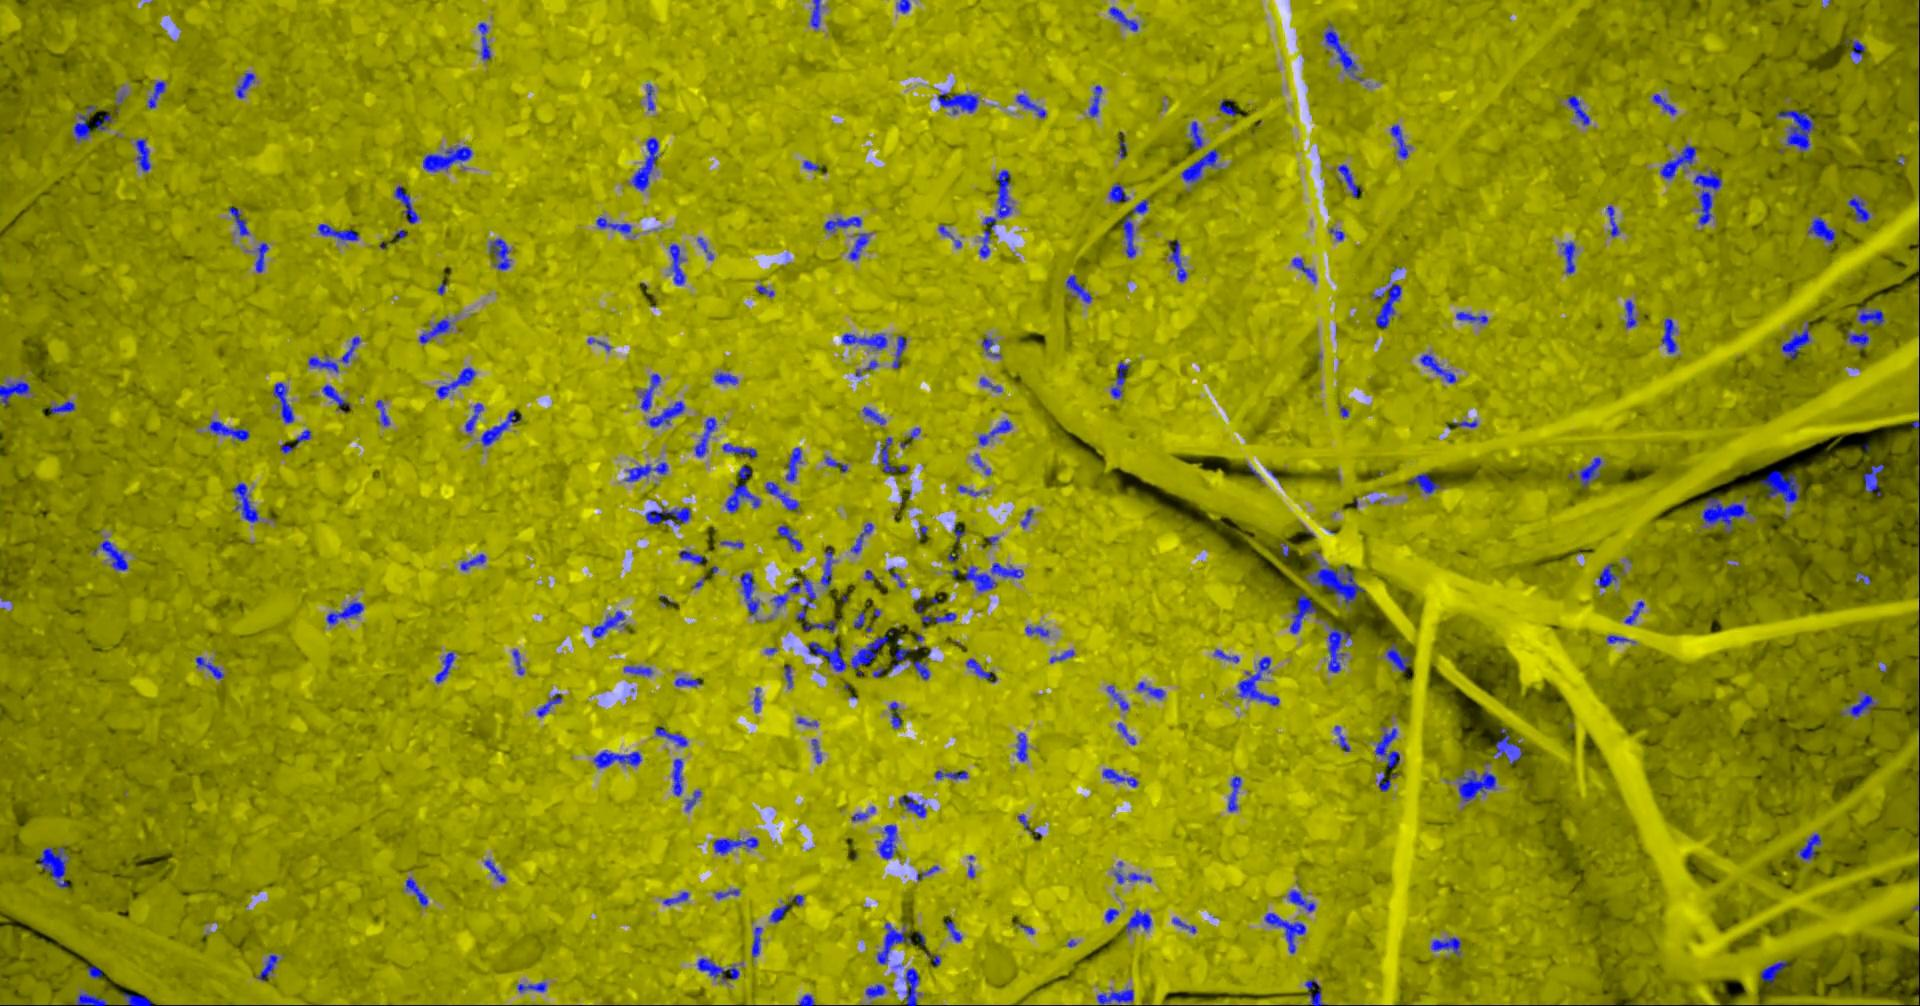ant: (789, 577, 836, 631), (1305, 561, 1363, 605), (1323, 23, 1363, 80), (1237, 655, 1279, 705), (964, 561, 1023, 591), (1263, 912, 1305, 953), (724, 465, 759, 512), (1702, 497, 1749, 532), (1775, 109, 1815, 151), (1693, 169, 1721, 224), (1121, 199, 1148, 257), (851, 635, 888, 674), (480, 409, 521, 445), (876, 922, 910, 964), (631, 137, 658, 191), (1760, 469, 1799, 502), (1371, 283, 1401, 328), (422, 146, 472, 171), (38, 846, 69, 887), (1660, 145, 1695, 179), (1181, 149, 1218, 182), (1457, 770, 1495, 801), (436, 367, 475, 398), (1418, 353, 1455, 384), (879, 436, 907, 475), (231, 481, 258, 522), (808, 641, 844, 671), (696, 956, 738, 982), (1289, 593, 1316, 633), (93, 540, 127, 570), (1493, 727, 1521, 763), (1374, 728, 1399, 767), (1327, 626, 1349, 672), (648, 400, 684, 427), (392, 185, 418, 224), (764, 481, 797, 511), (1782, 325, 1810, 359), (937, 91, 978, 114), (590, 610, 625, 636), (592, 749, 641, 767), (272, 382, 293, 423), (695, 417, 716, 457), (623, 461, 667, 481), (978, 419, 1012, 445), (645, 506, 690, 525), (326, 601, 363, 624), (740, 572, 759, 615), (841, 333, 886, 351), (1167, 239, 1186, 281), (1337, 164, 1361, 197), (418, 319, 451, 343), (639, 373, 660, 410), (1114, 861, 1150, 883), (323, 384, 350, 412), (0, 380, 29, 406), (208, 420, 249, 439), (72, 105, 94, 141), (279, 429, 311, 453), (712, 837, 758, 854), (1065, 274, 1091, 304), (996, 170, 1011, 218), (965, 658, 996, 682), (1807, 217, 1835, 243), (1385, 643, 1410, 672), (1110, 361, 1129, 398), (1015, 94, 1045, 117), (1407, 473, 1441, 493), (850, 522, 872, 553), (489, 238, 510, 269), (1102, 768, 1138, 788), (1109, 6, 1137, 30), (1848, 692, 1876, 716), (1759, 960, 1787, 984), (317, 224, 358, 240), (1578, 457, 1601, 486), (877, 824, 897, 859), (1863, 464, 1883, 495), (777, 525, 803, 550), (434, 652, 455, 683), (196, 655, 223, 678), (1567, 95, 1589, 124), (669, 244, 684, 285), (1291, 257, 1316, 282), (1797, 833, 1821, 859), (1096, 988, 1133, 1005), (655, 727, 687, 746), (898, 795, 926, 817), (405, 876, 427, 904), (463, 401, 483, 432), (536, 694, 561, 716), (1125, 909, 1150, 932), (904, 967, 919, 1005), (848, 232, 869, 260), (1288, 890, 1316, 911), (785, 447, 801, 481), (824, 216, 861, 231), (229, 206, 248, 235), (1106, 685, 1128, 710), (1390, 124, 1407, 158), (596, 217, 631, 232), (1661, 318, 1676, 353), (340, 337, 361, 363), (257, 954, 277, 981), (1857, 306, 1884, 325), (1848, 197, 1869, 221), (1623, 600, 1644, 624), (309, 354, 338, 372), (1304, 979, 1324, 1005), (135, 138, 150, 171), (1430, 937, 1460, 954), (820, 546, 833, 586), (721, 443, 757, 457), (1137, 681, 1164, 699), (1652, 93, 1675, 114), (484, 859, 505, 882), (235, 72, 254, 98), (477, 22, 490, 58), (890, 647, 910, 669), (891, 335, 905, 368), (119, 991, 152, 1005), (1597, 563, 1617, 587), (460, 553, 485, 570), (1227, 775, 1239, 810), (1561, 241, 1575, 273), (147, 81, 164, 108), (1846, 329, 1868, 349), (1116, 721, 1135, 744), (75, 992, 108, 1005), (862, 406, 885, 424), (1088, 85, 1101, 117), (1606, 205, 1619, 236), (1189, 121, 1203, 149), (1109, 183, 1128, 203), (982, 337, 1001, 357), (971, 453, 990, 474), (1172, 917, 1195, 934), (672, 758, 682, 795), (375, 399, 389, 426), (255, 243, 268, 272), (678, 550, 707, 563), (1015, 732, 1027, 761), (1845, 38, 1864, 57), (1455, 311, 1487, 323), (910, 661, 930, 680), (888, 567, 905, 587), (770, 904, 790, 922), (94, 109, 110, 131), (825, 456, 847, 473), (945, 920, 961, 941), (978, 229, 990, 257), (1335, 725, 1349, 751), (663, 890, 688, 904), (921, 612, 955, 622), (1911, 420, 1919, 465), (684, 790, 701, 810), (697, 238, 712, 259), (1213, 649, 1238, 662), (1624, 298, 1636, 326), (851, 807, 874, 821), (916, 865, 938, 879), (1375, 771, 1390, 791), (750, 926, 761, 956), (1049, 649, 1073, 662), (889, 702, 902, 727), (979, 377, 1001, 391), (517, 982, 546, 992), (1218, 99, 1236, 116), (935, 770, 968, 779), (512, 649, 523, 674), (810, 0, 820, 28), (712, 372, 737, 384), (50, 401, 74, 413), (770, 593, 787, 608), (1020, 508, 1032, 528), (865, 984, 885, 997), (1606, 634, 1634, 643), (623, 666, 651, 674), (715, 889, 739, 899), (674, 677, 701, 686), (957, 485, 980, 495), (1025, 626, 1048, 636), (811, 739, 822, 762), (756, 285, 773, 297), (646, 83, 654, 111), (1103, 908, 1117, 922), (1855, 572, 1870, 584), (783, 666, 792, 687), (853, 611, 865, 627), (797, 995, 815, 1005), (1330, 227, 1343, 240), (88, 965, 102, 978), (720, 540, 743, 547), (753, 687, 759, 713), (803, 160, 818, 170), (1453, 420, 1477, 427), (897, 0, 909, 11)
